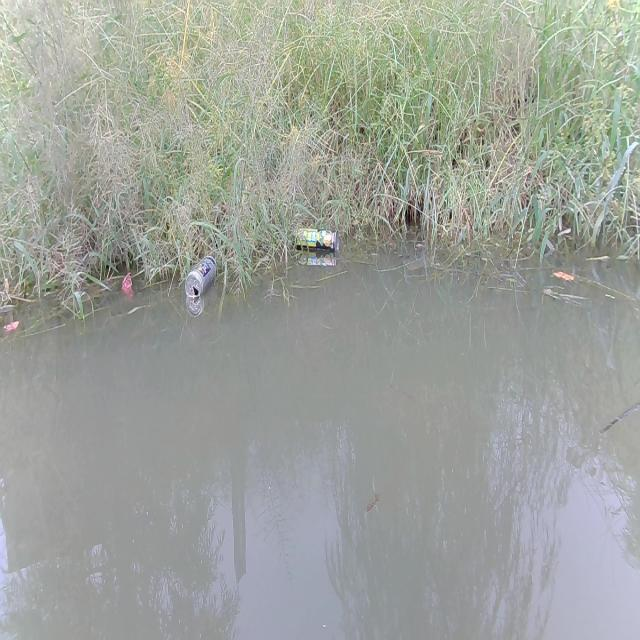bottle: (293, 221, 341, 255), (182, 252, 215, 300)
